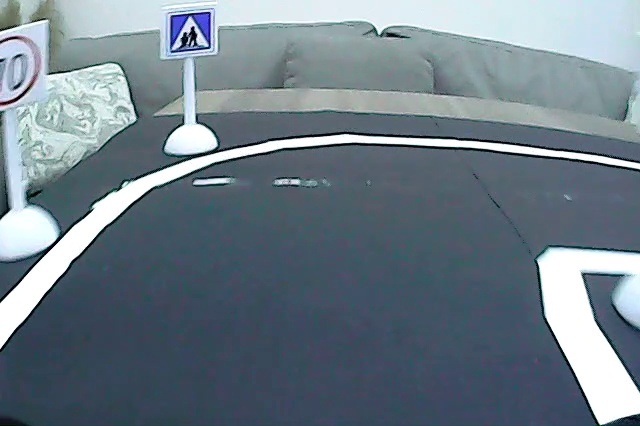school crossing: (167, 9, 215, 58)
